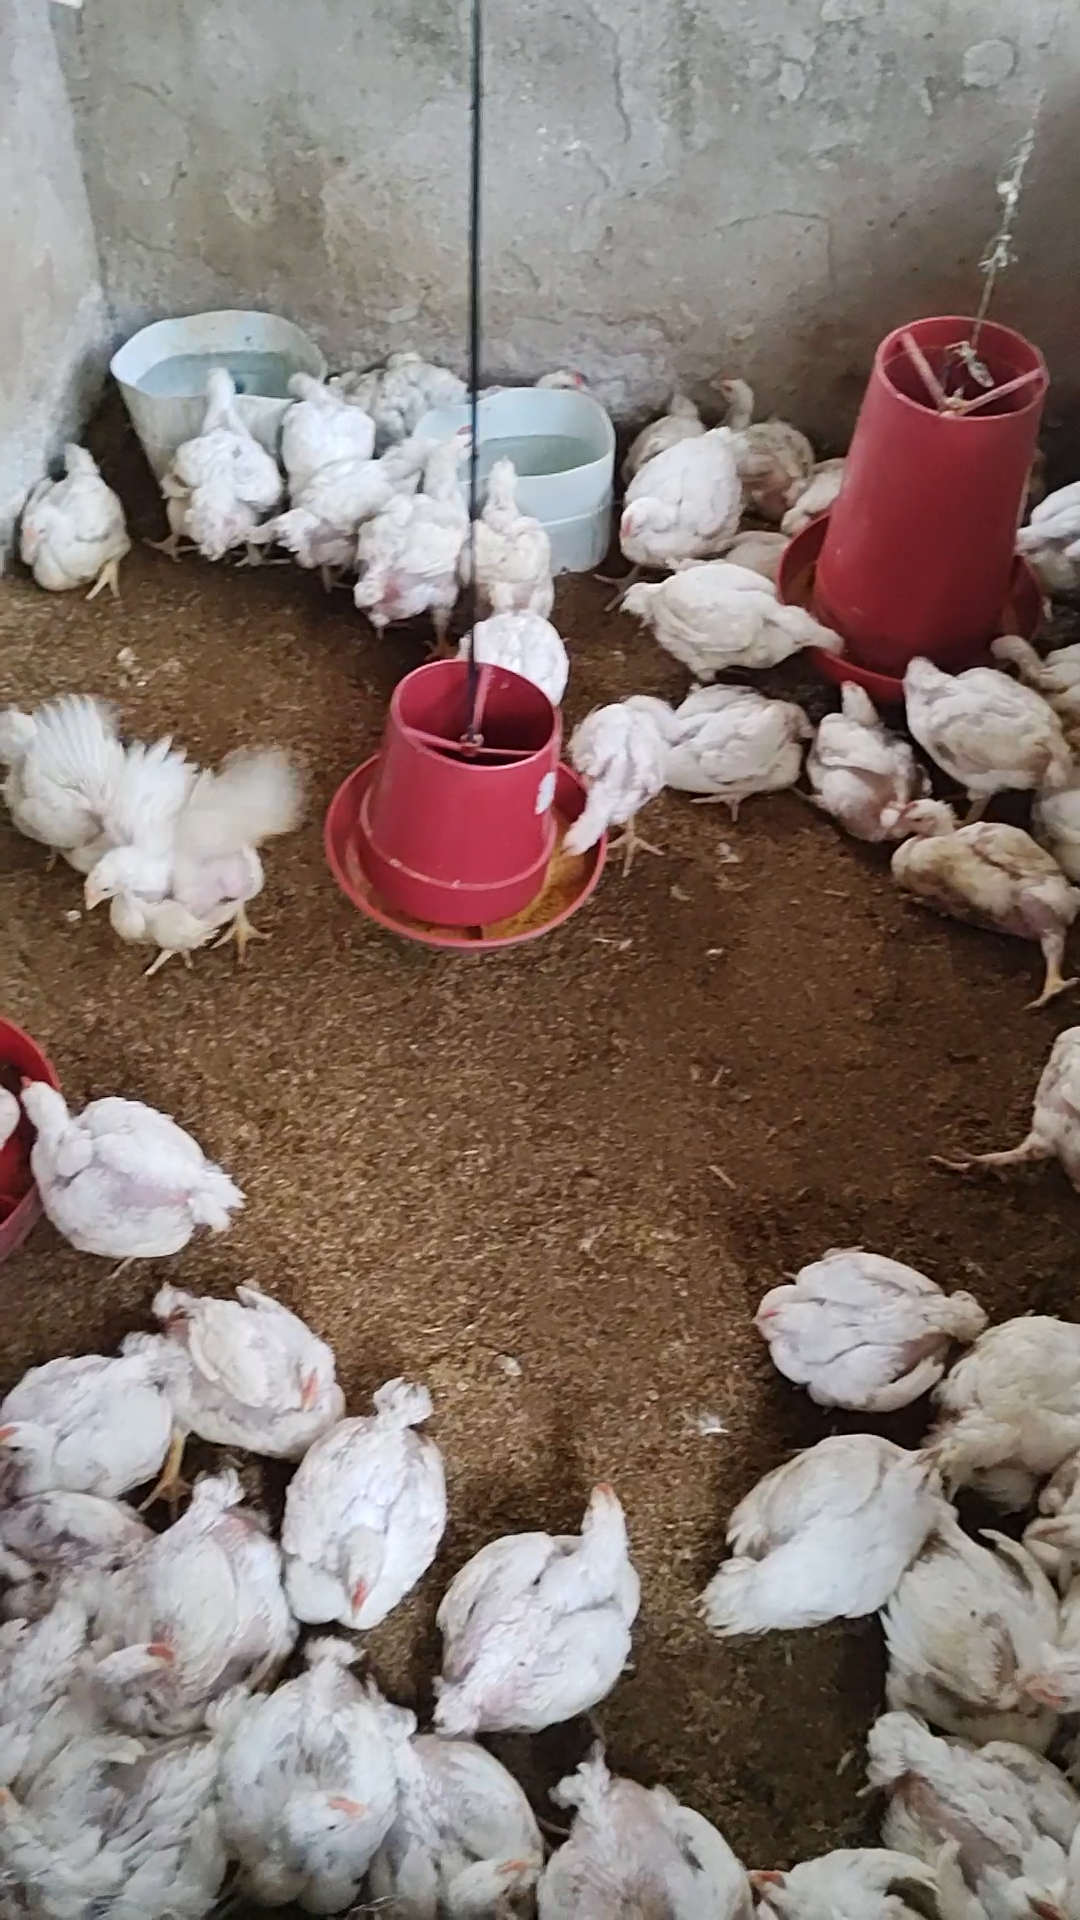Pollos: (427, 1462, 662, 1741), (683, 1433, 953, 1648), (84, 1462, 295, 1730), (513, 1713, 783, 1920), (66, 724, 290, 971), (11, 1059, 265, 1273), (851, 1513, 1080, 1742), (211, 1633, 398, 1912), (870, 1692, 1080, 1920), (273, 1373, 459, 1629), (363, 1688, 541, 1920), (873, 793, 1080, 992), (742, 1237, 972, 1416), (0, 1305, 189, 1523), (5, 688, 194, 876), (144, 1284, 352, 1435), (622, 555, 851, 684), (607, 419, 760, 605), (344, 442, 477, 653), (261, 440, 438, 591), (899, 646, 1069, 798), (153, 357, 272, 570), (640, 680, 825, 814), (934, 1313, 1080, 1482), (547, 691, 678, 880), (13, 442, 141, 615), (808, 670, 923, 853), (469, 451, 562, 634), (454, 593, 578, 727), (707, 367, 814, 508), (272, 363, 382, 476), (982, 617, 1080, 705)
